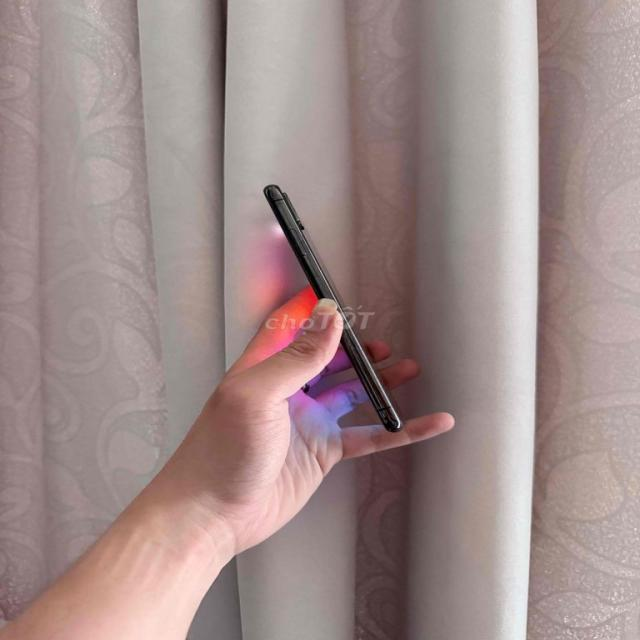gen_x_xs: (258, 171, 408, 432)
